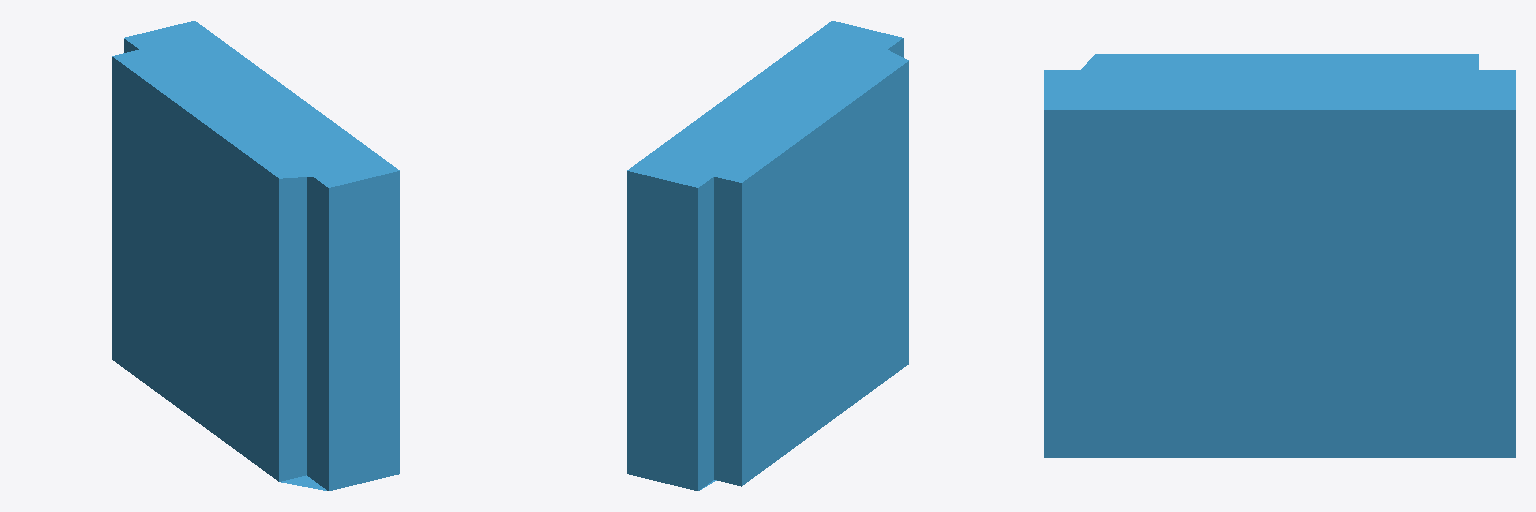
robot.urdf — cast_flying_arena:
<?xml version="1.0"?>
<robot name="cast_flying_arena">

  <link name="world">
    <visual>
      <origin rpy="0.0 0 1.5707" xyz="0 0 0.008"/>
      <geometry>
        <mesh filename="package://bintel_ros/meshes/cast/cast_simple_2.dae"/>
      </geometry>
    </visual>
  </link>
  
  <link name="wind_tunnel">
	<visual>
      <origin rpy="1.5707  0 1.5707" xyz="0 -0.025 0.00"/>
      <geometry>
        <mesh filename="package://bintel_ros/meshes/wind_tunnel_down.dae"/>
      </geometry>     
    </visual>
  </link>
  
  <joint name="some_joint" type="fixed">
    <parent link="world"/>
    <child link="wind_tunnel"/>
    <origin rpy="0 0 3.1415" xyz="0.03 0.0 0.05"/>
  </joint>


</robot>

--- Facts derived from the render (not from the file) ---
The picture shows the robot from 3 angles, left to right: view 1: azimuth 30°, elevation 25°; view 2: azimuth 150°, elevation 25°; view 3: azimuth 270°, elevation 25°; orthographic projection.
Model cast_flying_arena with 2 links and 1 joints (1 fixed), rooted at world, posed all joints at 0.
Visible links, largest first — view 1: wind_tunnel; view 2: wind_tunnel; view 3: wind_tunnel.
Boxes of the visible links, x1,y1,x2,y2 form: wind_tunnel: (112, 21, 399, 490); wind_tunnel: (627, 21, 908, 490); wind_tunnel: (1044, 54, 1515, 457).
Size in the robot's own frame: 1.12 by 4.01 by 3.27 metres.
Meshes: 2 distinct files referenced, 1 mesh visuals loaded (1 Collada DAE); not drawn: 1 (file found but could not be loaded).